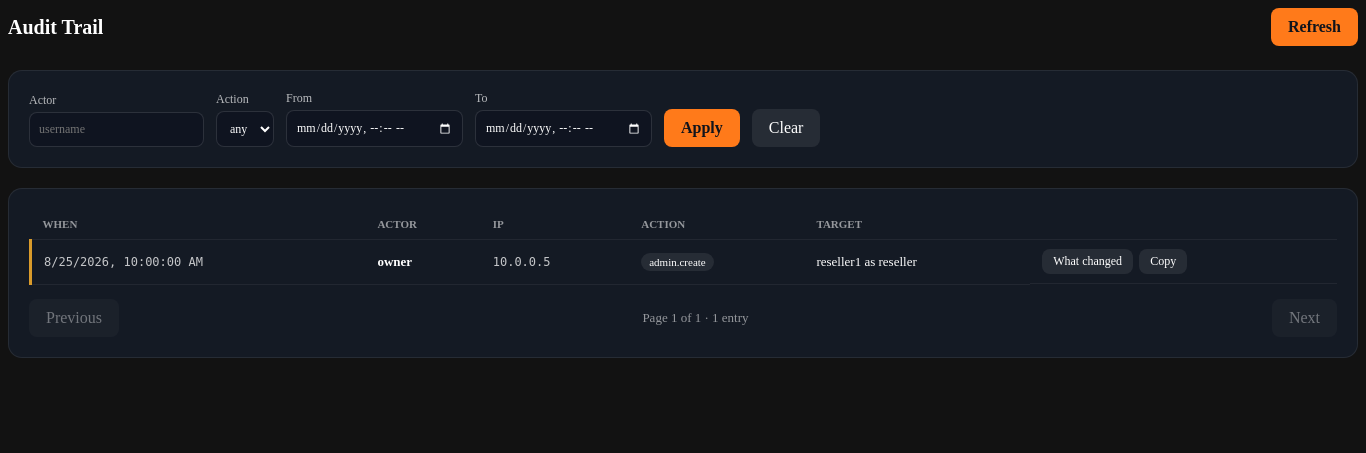
Test: AuditView › shows what changed on demand
Click the button with test id "toggle-diff" at (1088, 262), box [1042,249,1133,274]
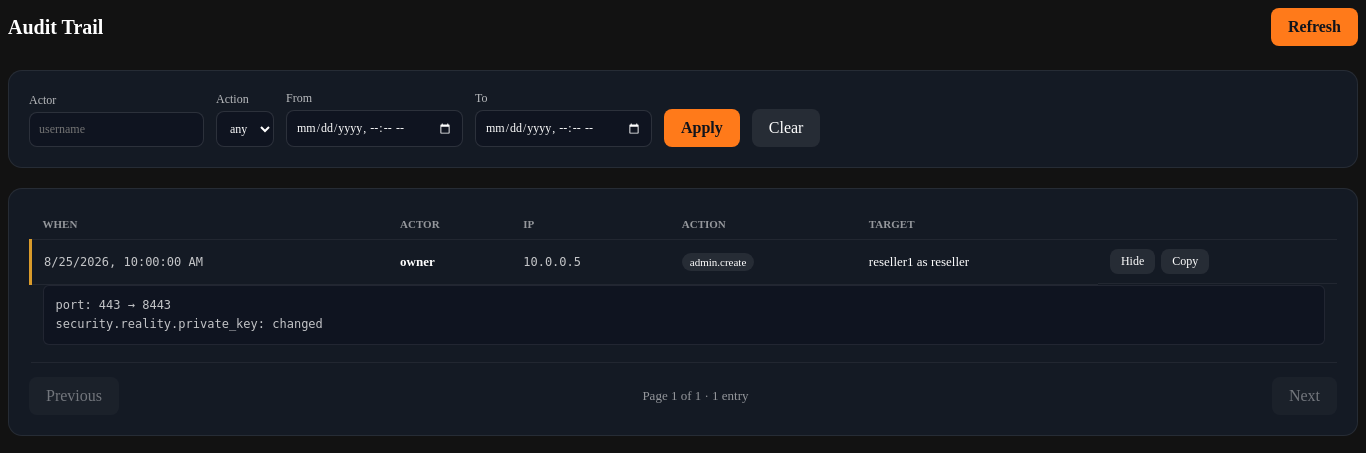
Result: the text with test id "diff" shows "port: 443 → 8443" at [56,298,323,331]
Result: the text with test id "diff" shows "private_key: changed" at [56,298,323,331]
